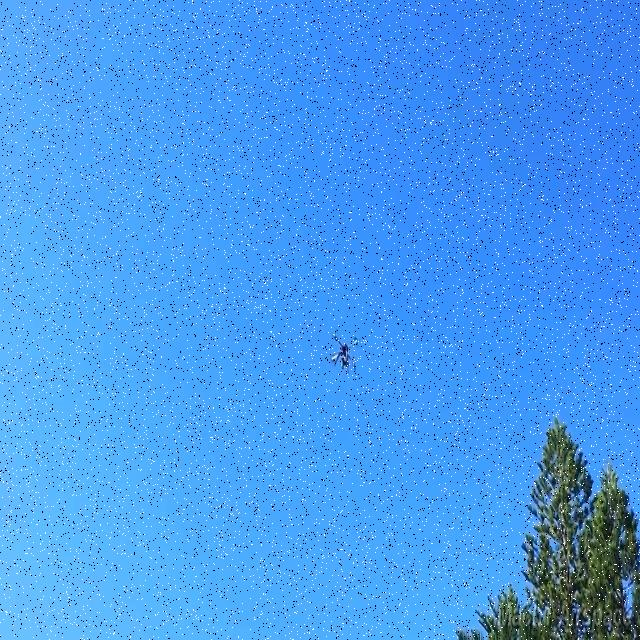UAV: (331, 329, 359, 373)
